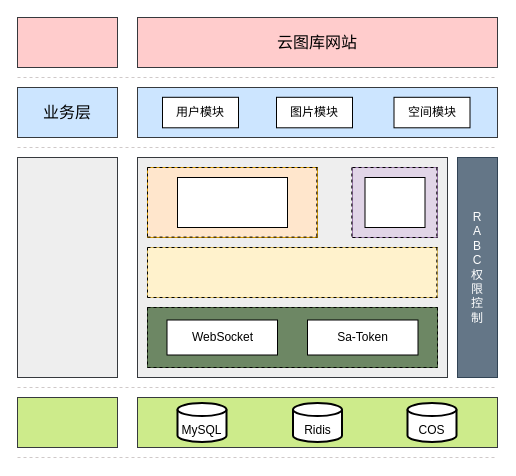
Some shapes in this 516 by 476 pixel diagram are drawn without their labels. The shapes that lost their labels are listed below. From the top down, each one's centre as x and y in pixels, then its label:
At pixel 67 42: "用户层".
At pixel 232 202: "本地缓存".
At pixel 394 202: "AI大模型".
At pixel 67 267: "服务层".
At pixel 292 272: "后台管理服务".
At pixel 67 422: "存储层".
